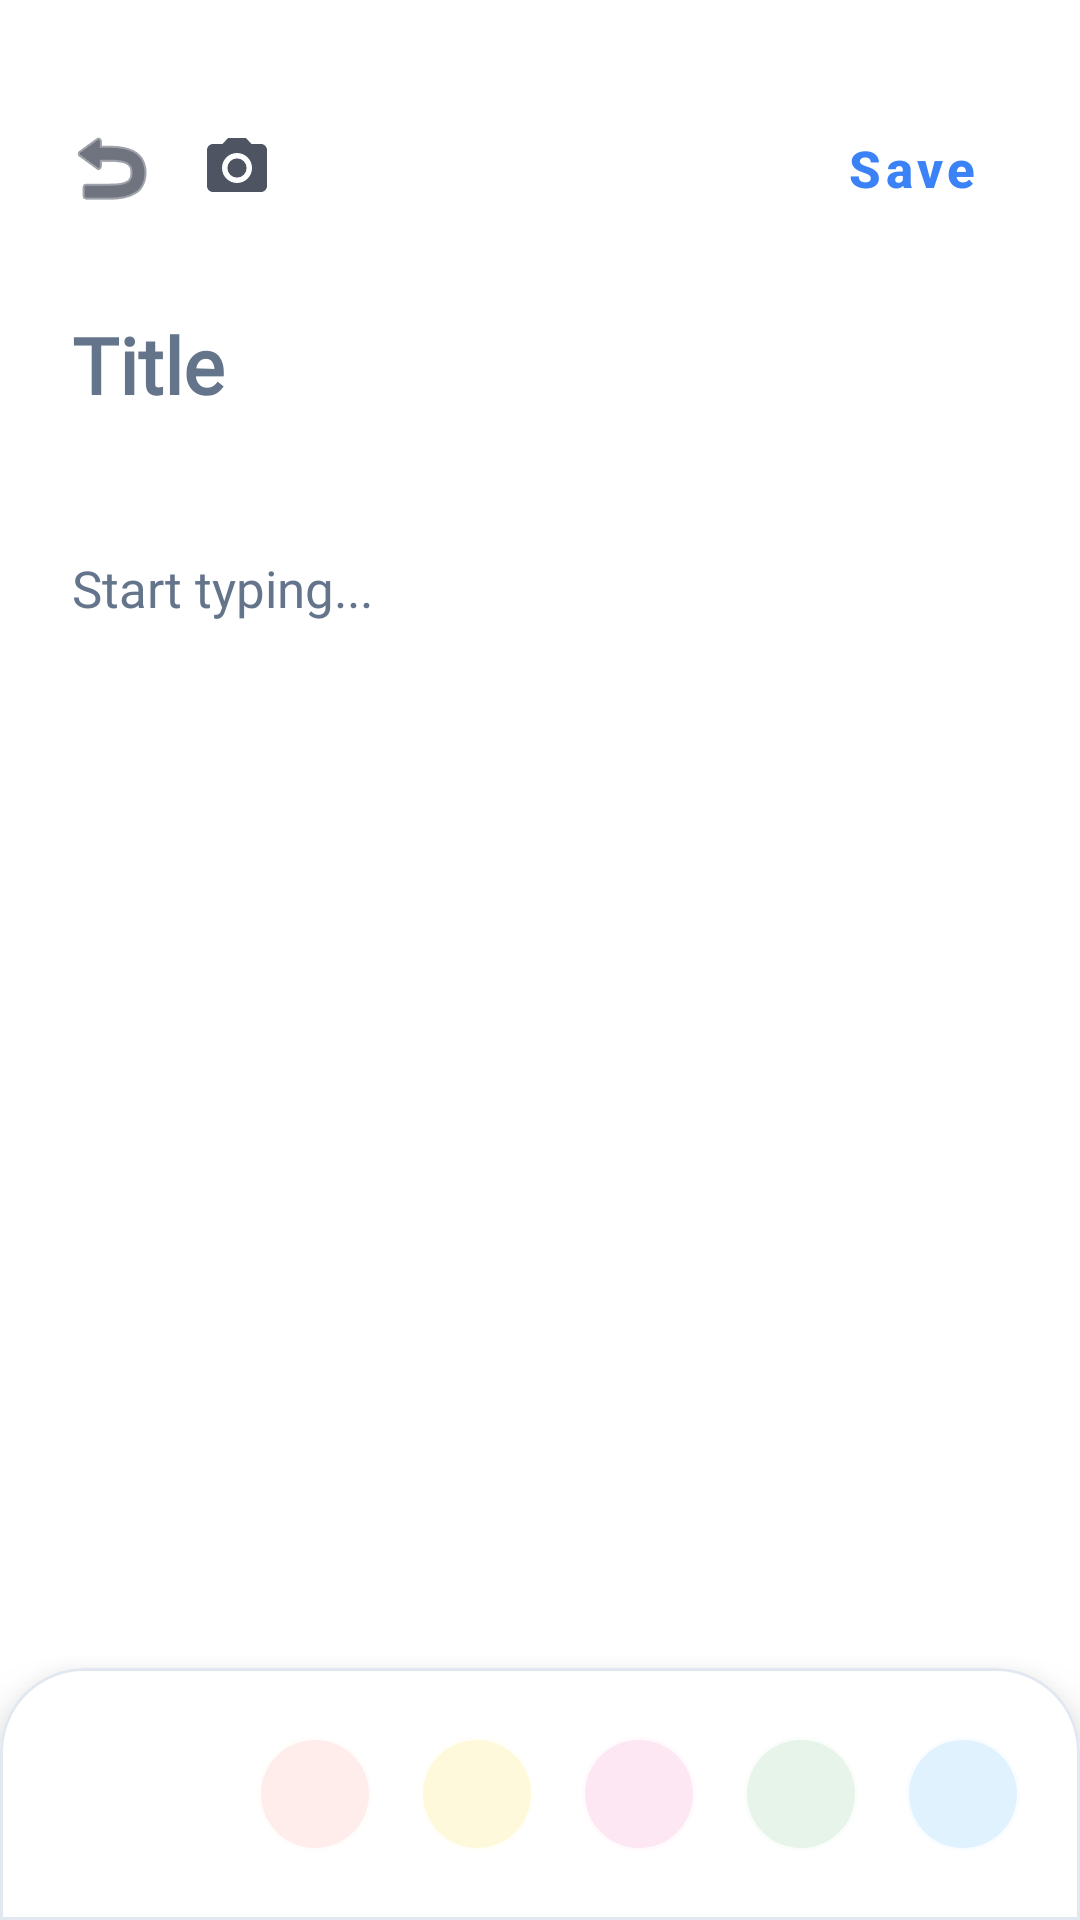

Named icons in this screenshot (1080x1920) and their bounding boxes, detection(x1, y1, x2, y2):
Back: detection(78, 137, 147, 200)
Camera: detection(207, 138, 267, 192)
